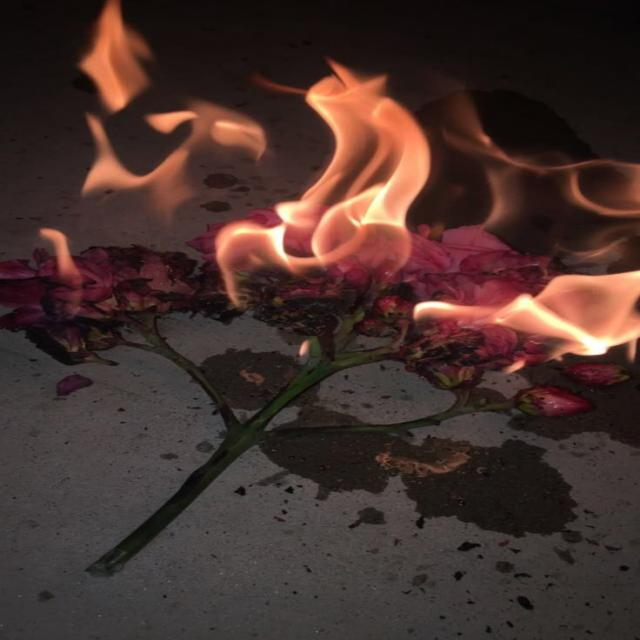fire: (215, 62, 437, 306), (76, 0, 261, 207), (445, 83, 640, 258), (418, 262, 636, 366), (35, 227, 88, 295)
